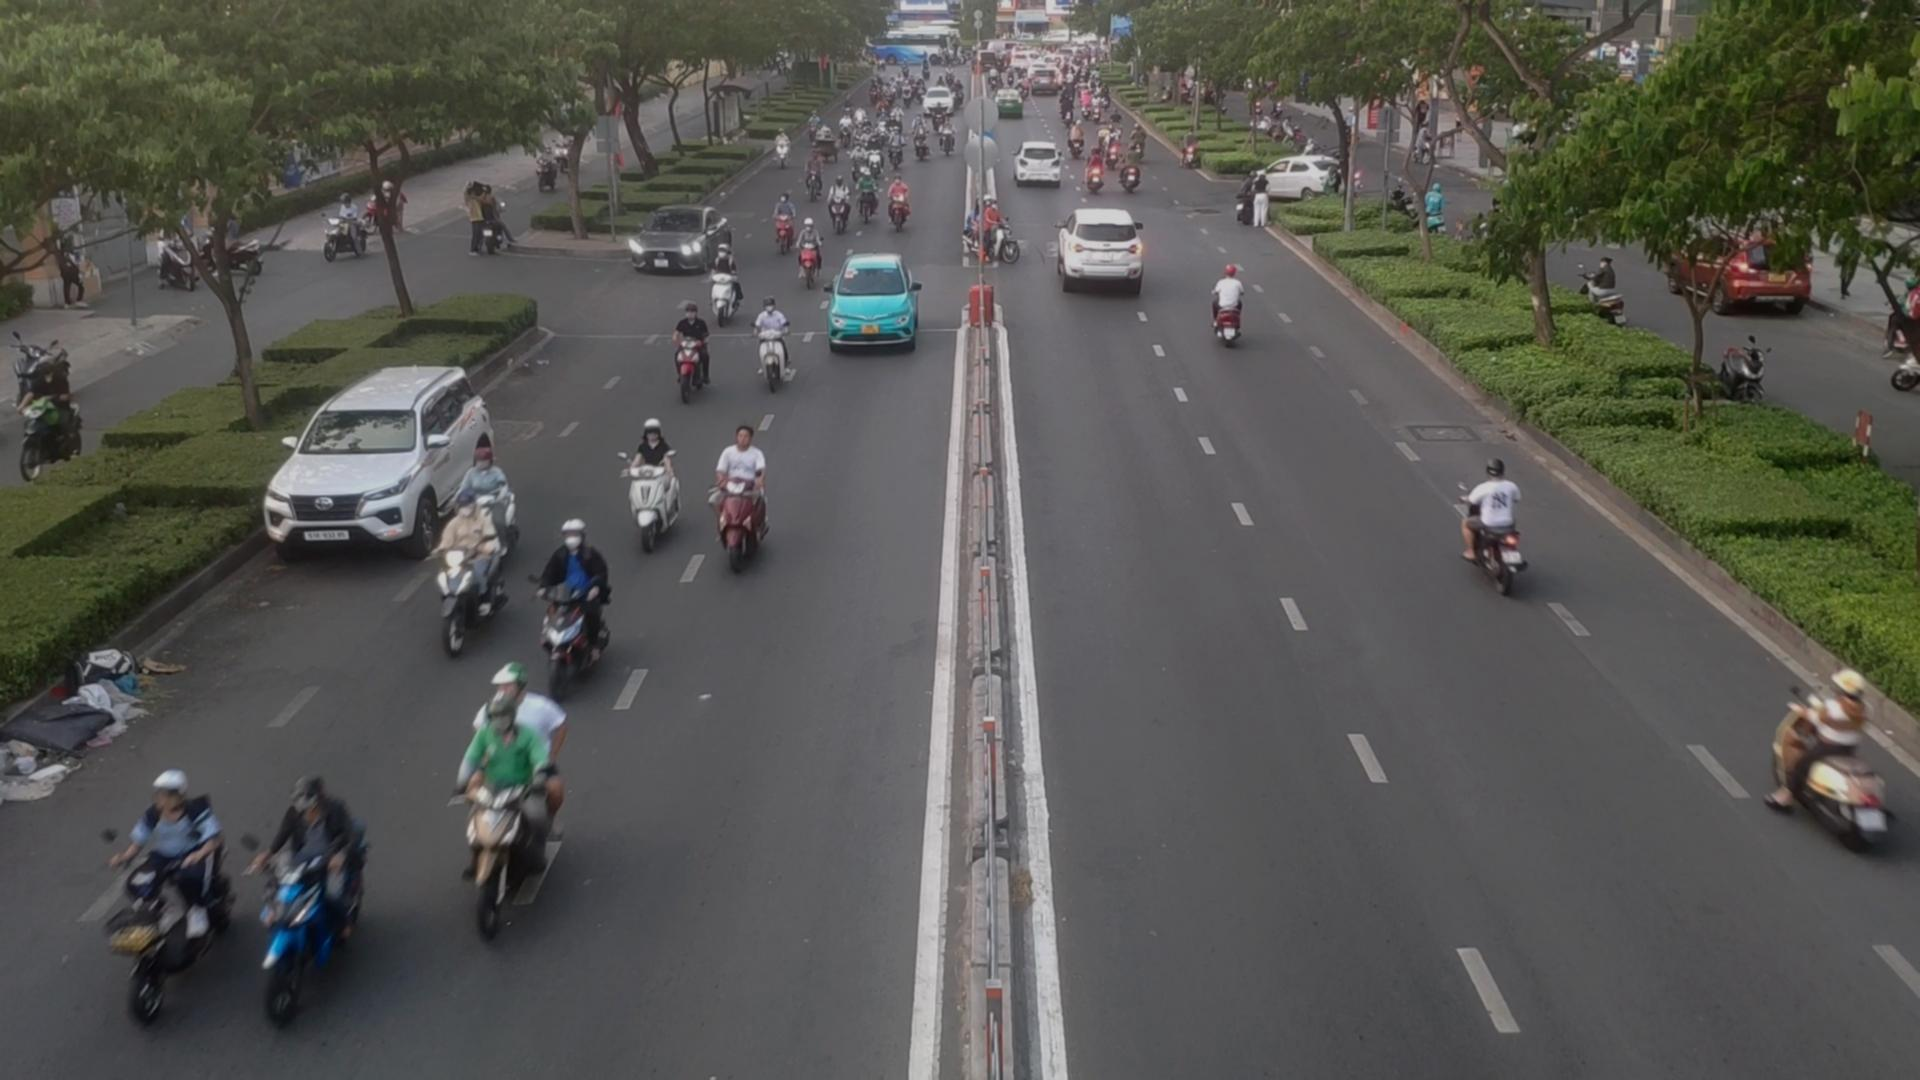car: (268, 368, 502, 560), (825, 252, 931, 348), (625, 207, 735, 278), (1058, 210, 1150, 291), (1011, 142, 1062, 185)
motorbike: (71, 758, 223, 1029), (236, 766, 375, 1029), (1749, 632, 1894, 856), (433, 671, 556, 930), (406, 505, 522, 651), (1465, 442, 1545, 601), (545, 506, 611, 688), (716, 414, 777, 576), (622, 410, 691, 551), (674, 301, 713, 415), (748, 301, 798, 382), (707, 249, 746, 322), (977, 204, 1015, 270), (1217, 261, 1244, 345), (790, 214, 818, 289), (766, 182, 790, 258), (829, 173, 852, 231), (886, 174, 909, 229), (858, 169, 882, 219), (1083, 146, 1106, 190), (802, 153, 823, 200), (1124, 149, 1142, 196), (886, 131, 902, 171), (773, 131, 789, 167), (852, 138, 862, 185), (868, 135, 881, 171)
